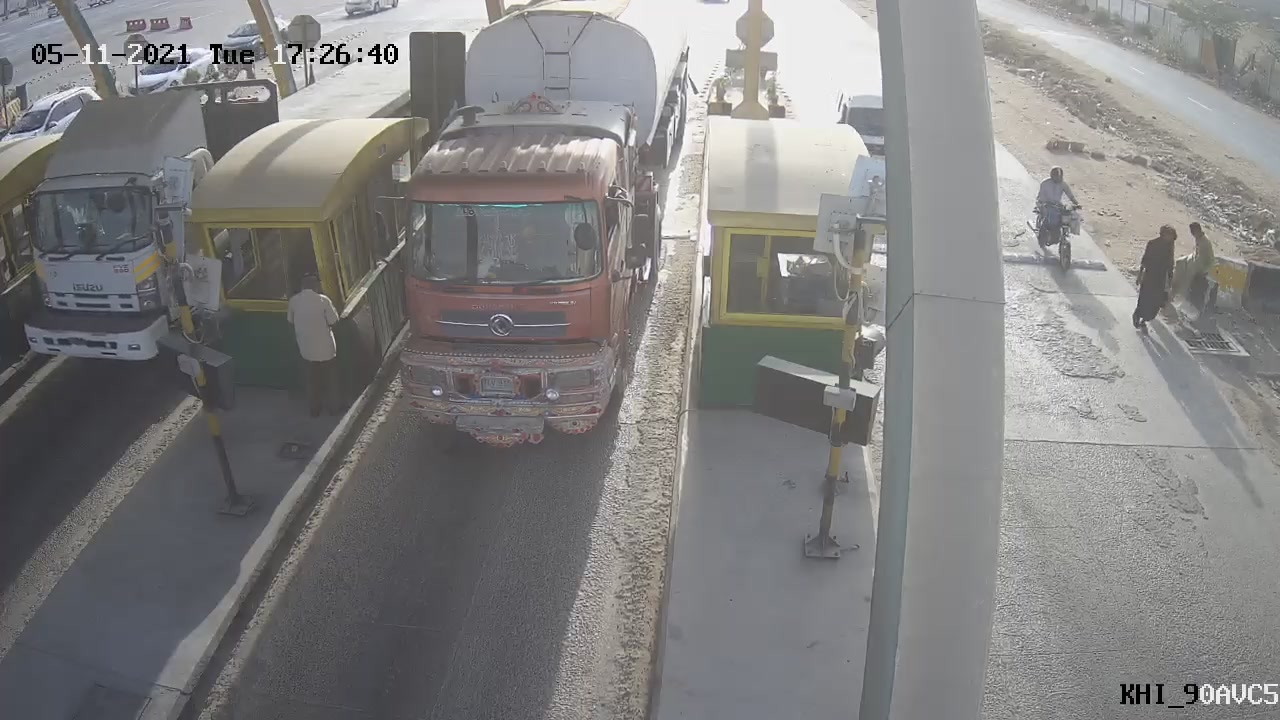F6: (341, 1, 715, 463)
